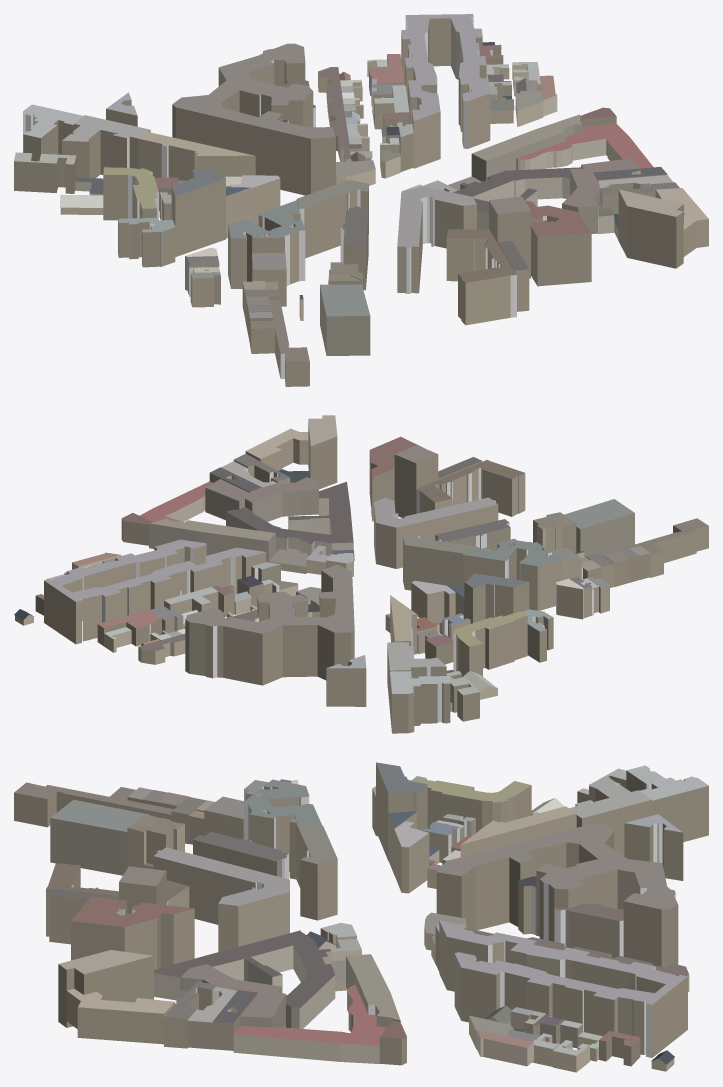
3 renders of one model, top to bottom at view 1: azimuth 30°, elevation 25°; view 2: azimuth 150°, elevation 25°; view 3: azimuth 270°, elevation 25°, orthographic. The views are drawn at different scales.
Visible parts, largest first — view 1: tuile; view 2: tuile; view 3: tuile.
Part boxes in pixels (x1,y1,x2,y2): tuile: (14, 14, 708, 386); tuile: (14, 415, 708, 733); tuile: (14, 762, 708, 1072).
Bounding box in the file's own units: 267 × 39.2 × 284.
